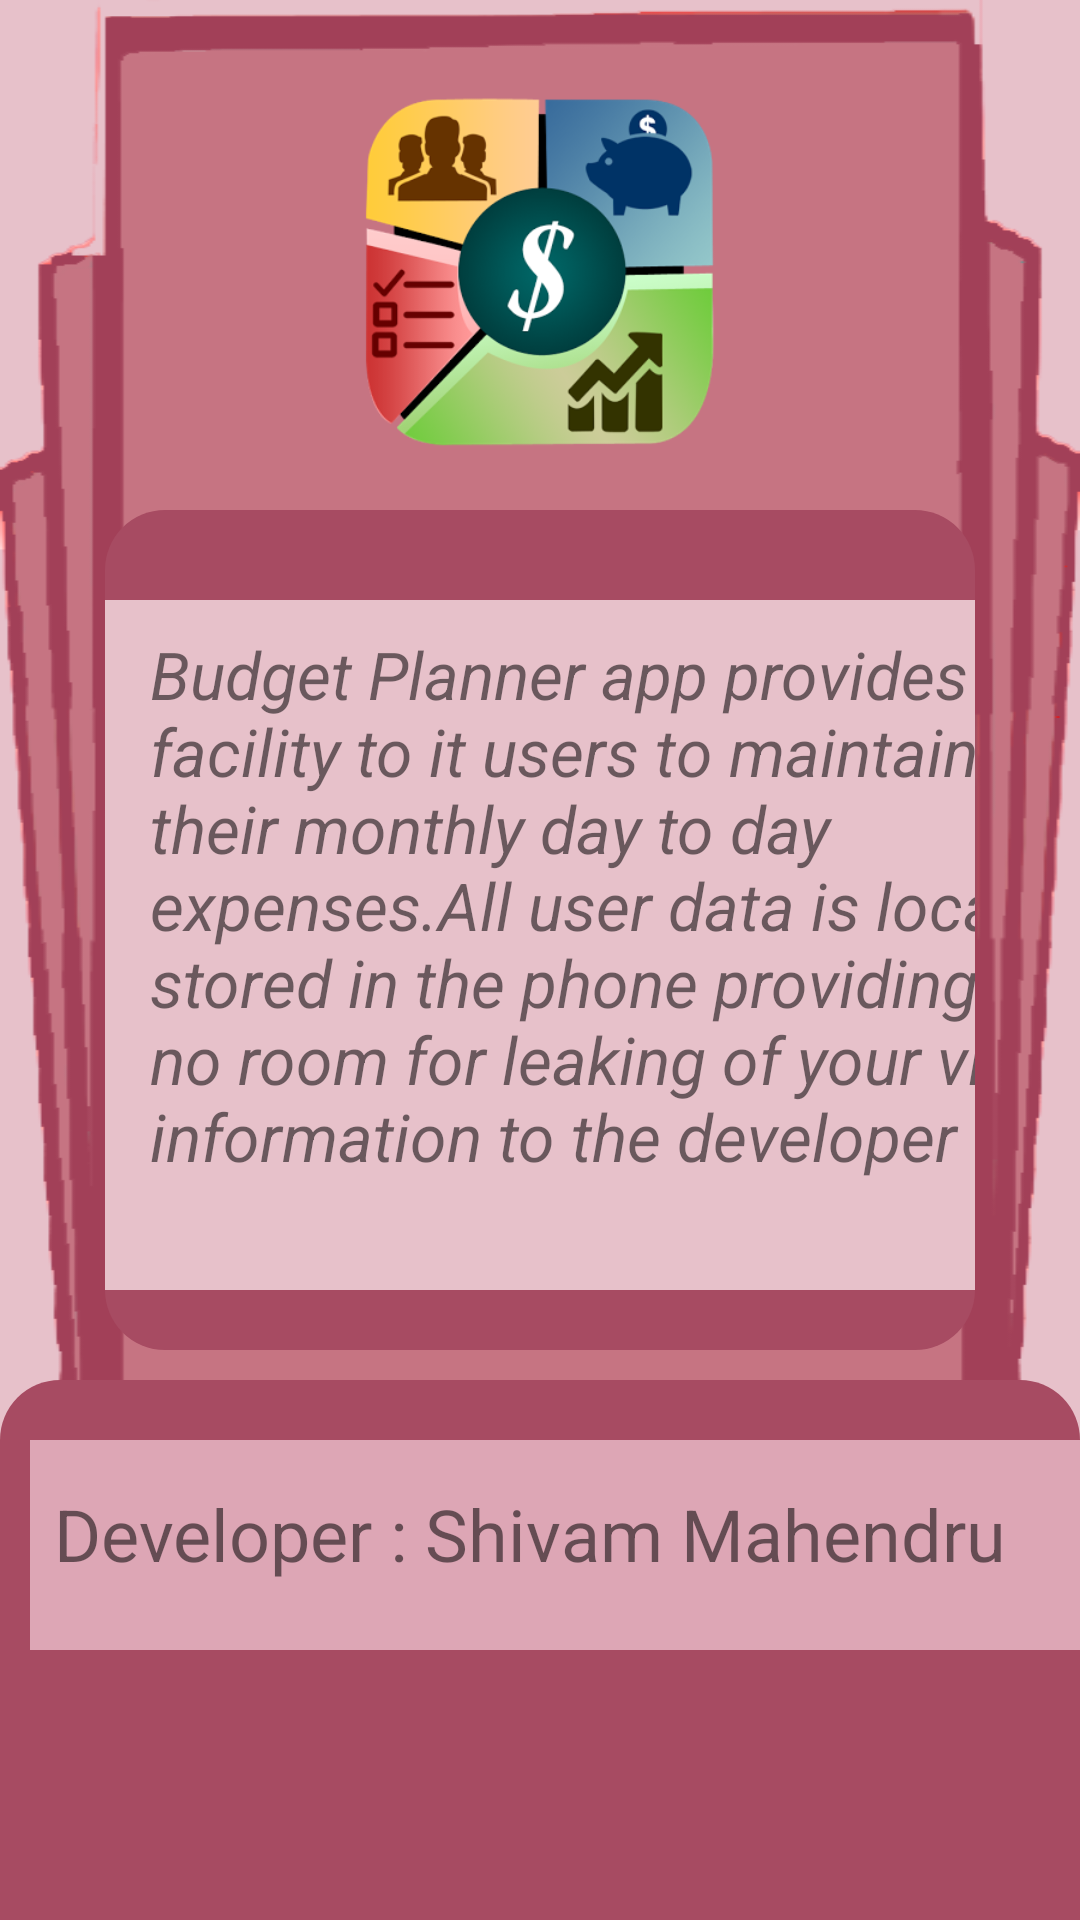

Icons on this 1080×1920 Android screen, each with the point to tap as (x=x, y=y):
budgetplannericon: (x=540, y=271)
